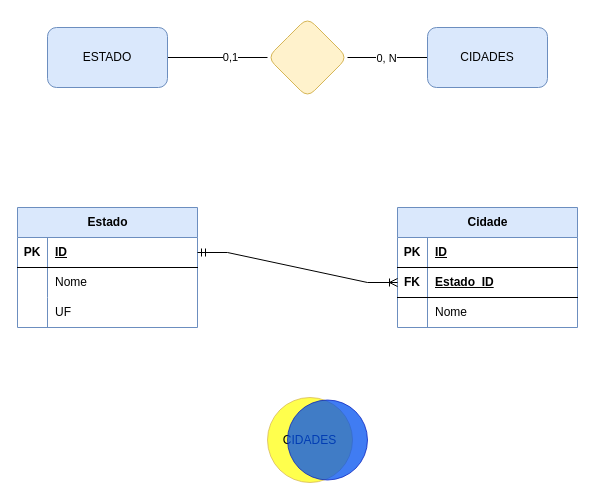
Image size: 595x500. Some labels were removed from this diagram. The centre of each missing label's shape, as x and y in pixels:
"ESTADOS" goes at point 327,439.
"POSSUI" goes at point 307,57.
